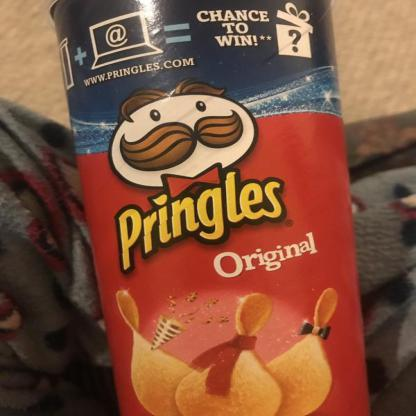potatochip: (51, 0, 380, 415)
